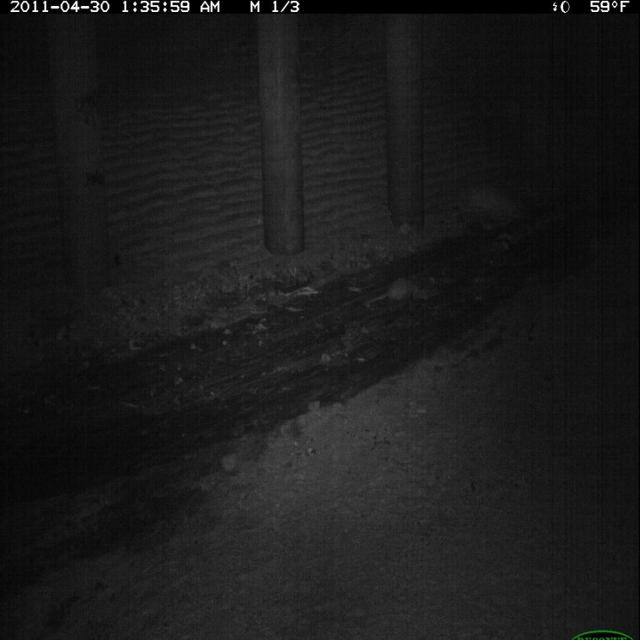opossum: (368, 272, 423, 310)
